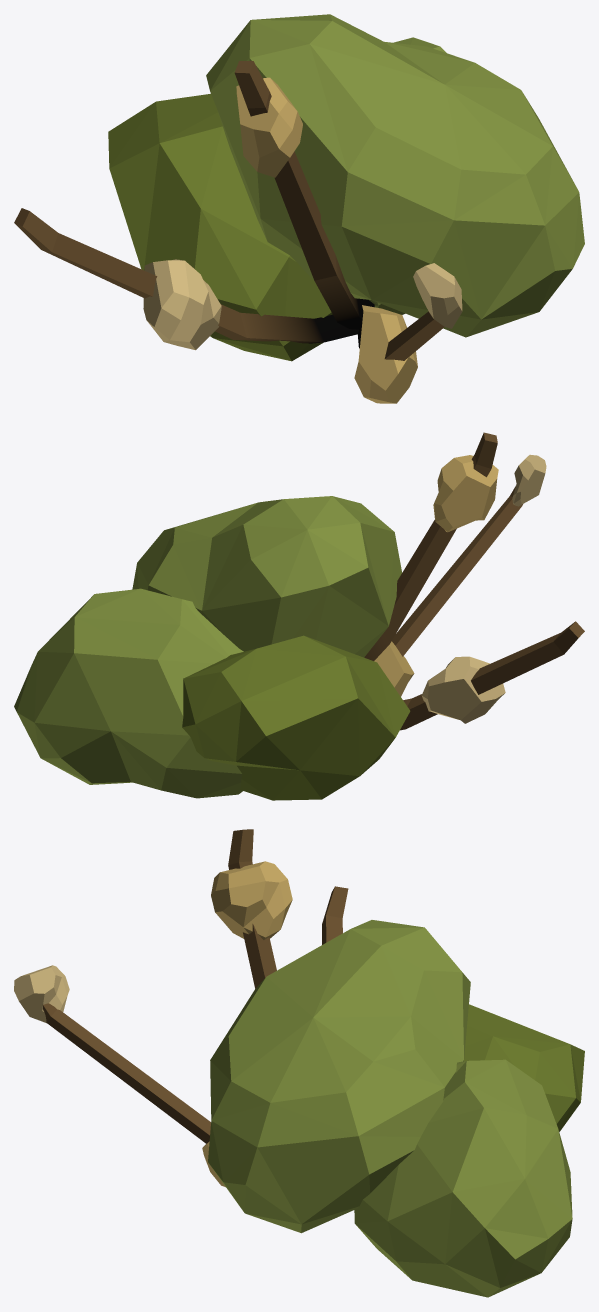
File: EA03_Nature_Bush_03a.glb
The picture shows the model from 3 angles, top to bottom: view 1: azimuth 30°, elevation 25°; view 2: azimuth 150°, elevation 25°; view 3: azimuth 270°, elevation 25°; orthographic projection. The views are drawn at different scales.
Visible parts, largest first — view 1: EA03_Nature_Bush_03a; view 2: EA03_Nature_Bush_03a; view 3: EA03_Nature_Bush_03a.
Part boxes in pixels (x1,y1,x2,y2): EA03_Nature_Bush_03a: (14,14,584,403); EA03_Nature_Bush_03a: (14,432,584,800); EA03_Nature_Bush_03a: (14,829,584,1297).
Bounding box in the file's own units: 2.72 × 1.73 × 2.75.
1 material, 1 textured.
